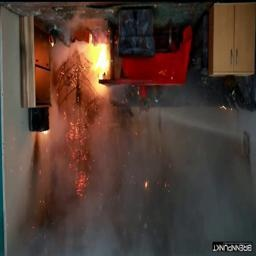fire: (75, 41, 122, 103)
